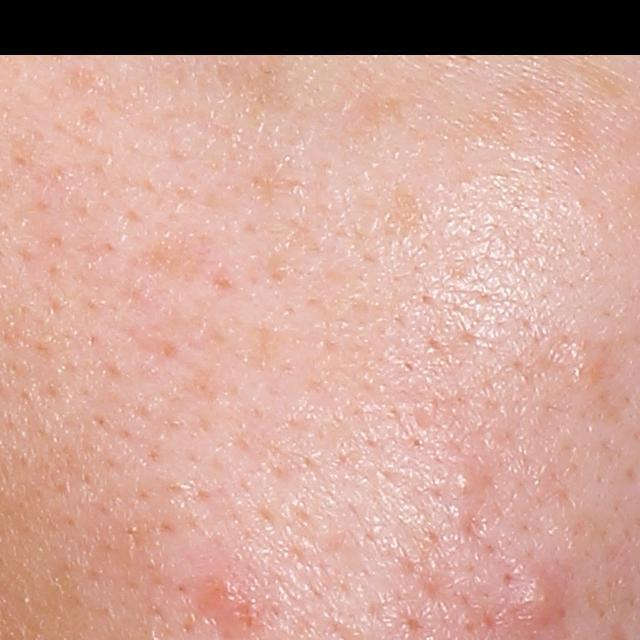comedo: (451, 467, 481, 498)
melasma: (212, 45, 314, 118), (117, 235, 216, 288), (569, 51, 629, 105), (350, 93, 414, 133), (493, 82, 550, 124), (387, 187, 429, 238)
papule: (511, 572, 567, 628)
